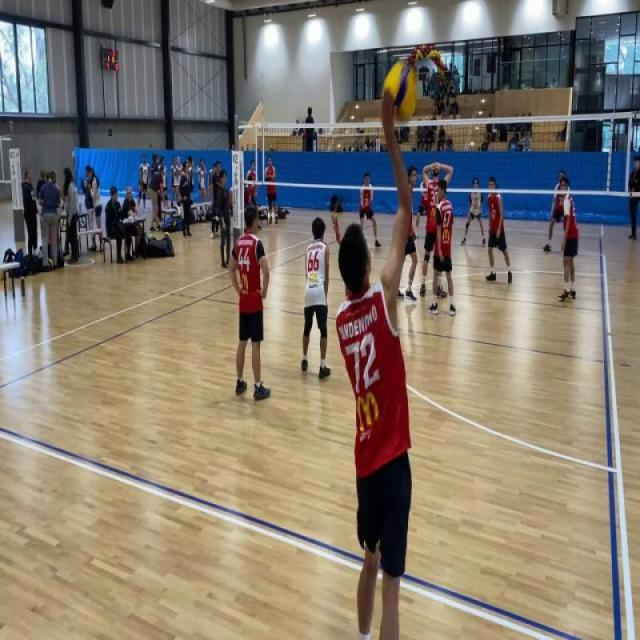volleyball: (382, 58, 418, 126), (47, 256, 54, 270), (147, 234, 154, 241), (164, 230, 170, 238)
